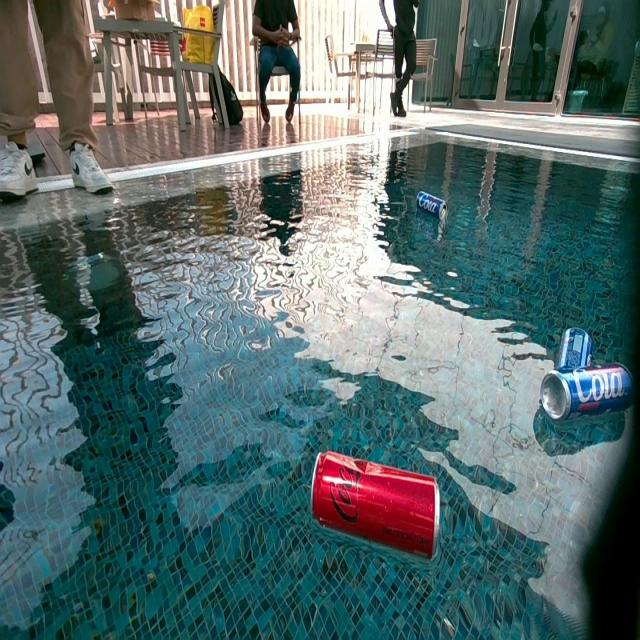Cans: (308, 449, 438, 561), (541, 365, 636, 422), (557, 328, 593, 367), (416, 192, 448, 222)
